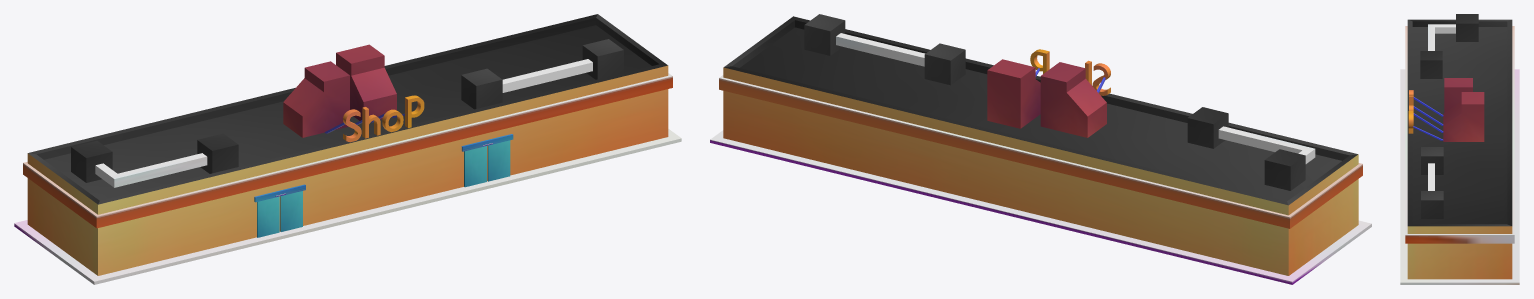
File: Shop_1.fbx
The picture shows the model from 3 angles, left to right: view 1: azimuth 30°, elevation 25°; view 2: azimuth 150°, elevation 25°; view 3: azimuth 270°, elevation 25°; orthographic projection. The views are drawn at different scales.
Parts seen in each view (by area): view 1: Shop; view 2: Shop; view 3: Shop.
Part boxes in pixels (x1,y1,x2,y2): Shop: (14,14,681,284); Shop: (710,14,1371,284); Shop: (1400,14,1519,284).
Bounding box in the file's own units: 4479 × 862 × 1058.
1 material, 1 textured.
